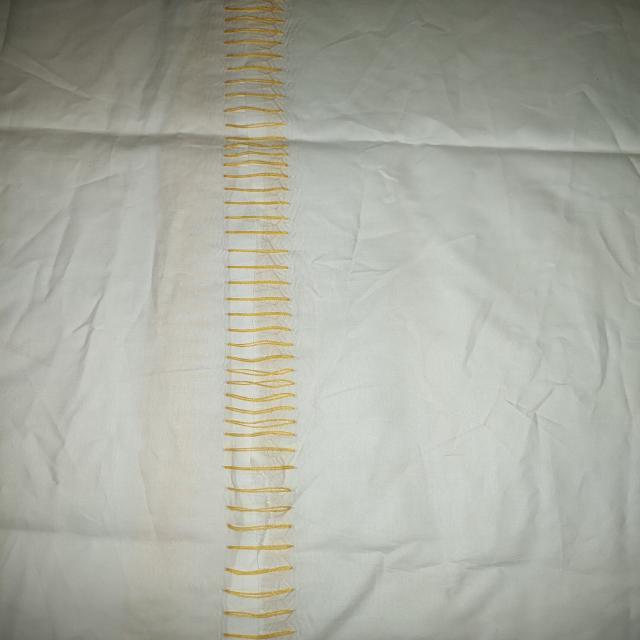Thread_out: (208, 9, 318, 640)
